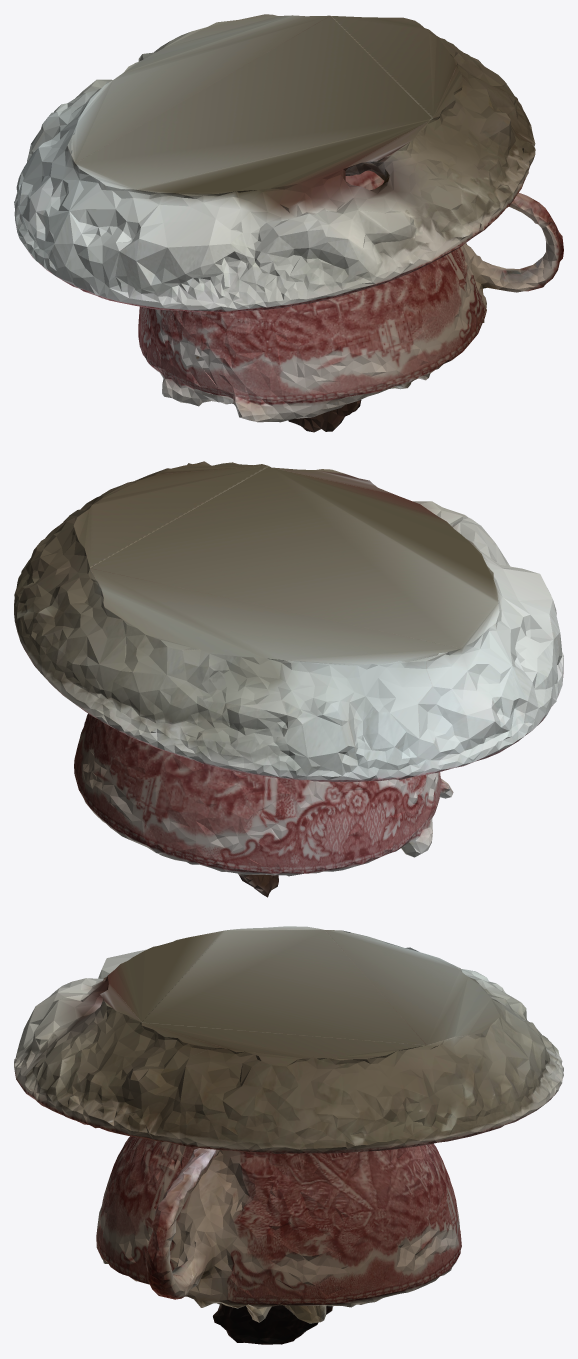
File: Vienna_coffee.glb
3 renders of one model, top to bottom at view 1: azimuth 30°, elevation 25°; view 2: azimuth 150°, elevation 25°; view 3: azimuth 270°, elevation 25°, orthographic. The views are drawn at different scales.
Parts seen in each view (by area): view 1: model; view 2: model; view 3: model.
Part boxes in pixels (bbox=[...]): model: bbox=[14, 14, 563, 432]; model: bbox=[14, 461, 563, 897]; model: bbox=[14, 926, 563, 1344].
Bounding box in the file's own units: 1.18 × 0.8632 × 1.19.
1 material, 1 textured.
